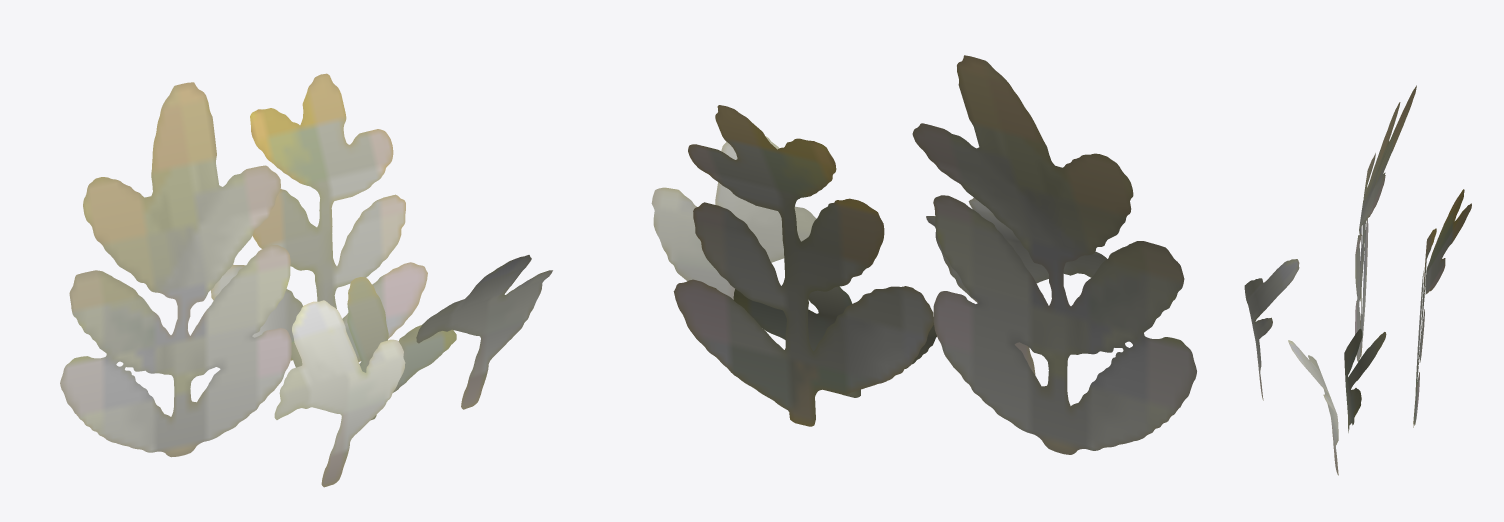
File: pref_sm_beach_winter_techclover05_alpha_01_lv3.fbx
The picture shows the model from 3 angles, left to right: view 1: azimuth 30°, elevation 25°; view 2: azimuth 150°, elevation 25°; view 3: azimuth 270°, elevation 25°; orthographic projection. The views are drawn at different scales.
Parts seen in each view (by area): view 1: pref_sm_beach_winter_techclover05_alpha_01_lv3; view 2: pref_sm_beach_winter_techclover05_alpha_01_lv3; view 3: pref_sm_beach_winter_techclover05_alpha_01_lv3.
Part boxes in pixels (<box>): pref_sm_beach_winter_techclover05_alpha_01_lv3: <box>60,73,552,487</box>; pref_sm_beach_winter_techclover05_alpha_01_lv3: <box>651,55,1196,454</box>; pref_sm_beach_winter_techclover05_alpha_01_lv3: <box>1244,85,1471,475</box>.
Bounding box in the file's own units: 1.07 × 0.7345 × 0.5486.
